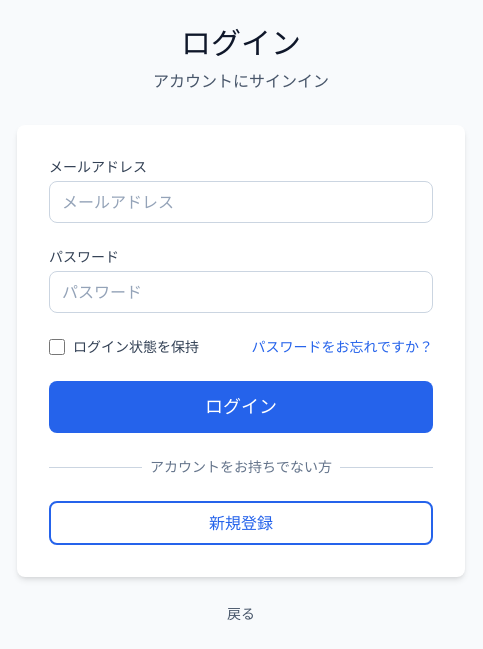
LoginPage › パスワードが空の場合エラーが表示される
Type "test@example.com" into the field labelled "メールアドレス" at (241, 202), box x1=49 y1=181 x2=433 y2=223
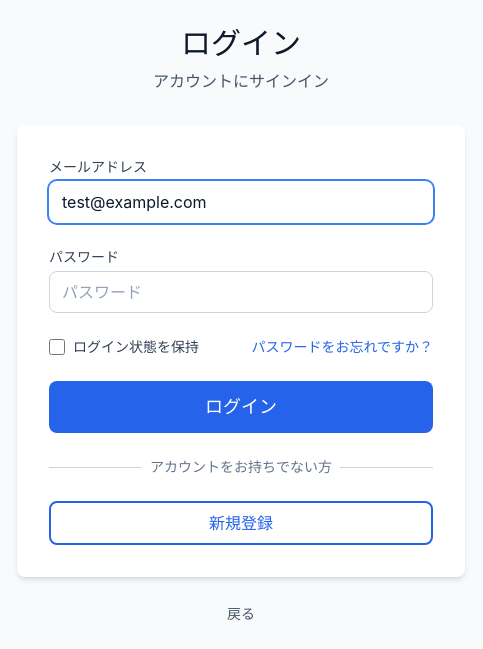
Click the button "ログイン" at (241, 407), box x1=49 y1=381 x2=433 y2=433
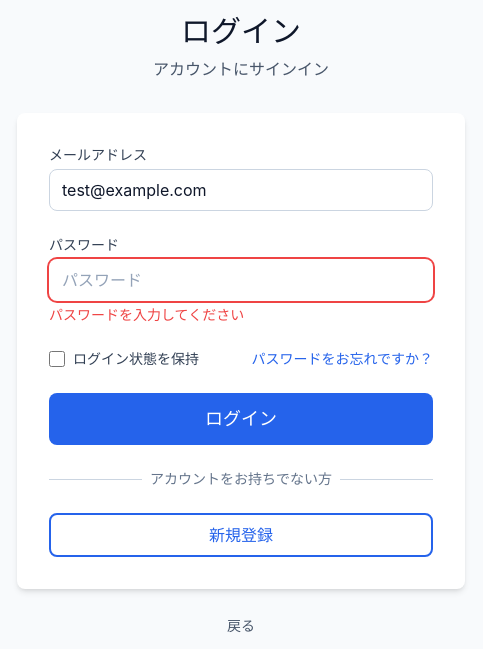
expect the text "パスワードを入力してください" is shown: met, box x1=49 y1=306 x2=244 y2=323
